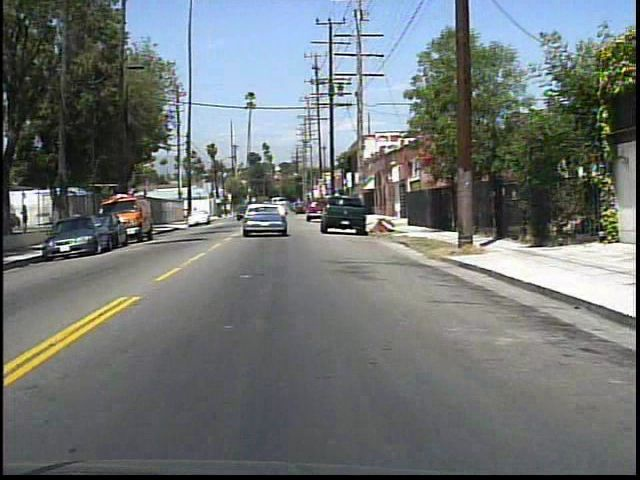person: (20, 203, 34, 234)
